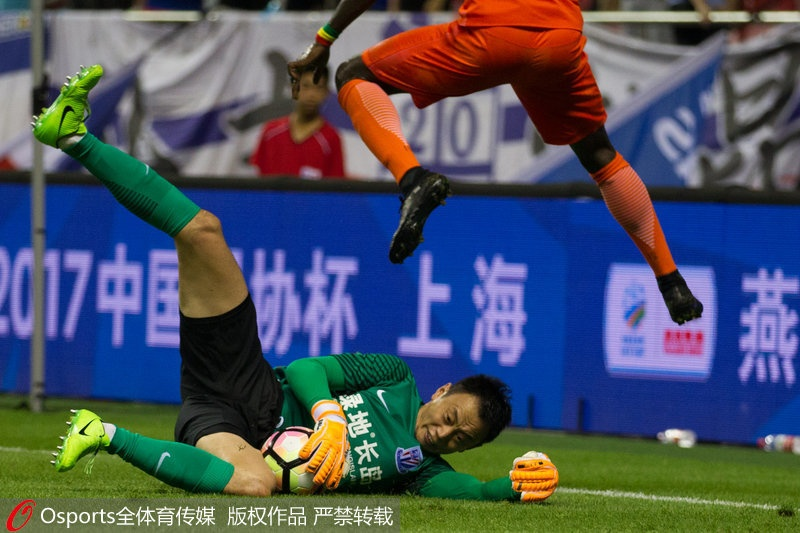falling: (39, 73, 582, 504)
